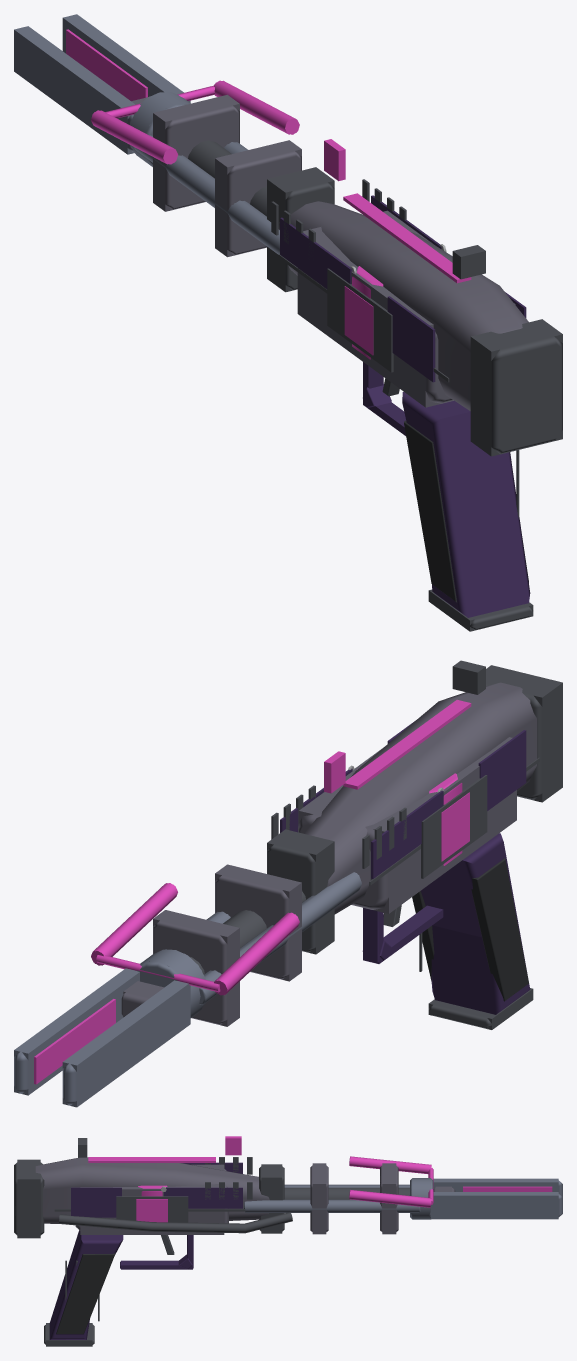
Rendered from q_ensmg.glb.
3 views of the same model, one above another, from view 1: azimuth 30°, elevation 25°; view 2: azimuth 150°, elevation 25°; view 3: azimuth 270°, elevation 25° (orthographic). The views are drawn at different scales.
Parts seen in each view (by area): view 1: L0, L1; view 2: L0, L1; view 3: L0, L1.
Part boxes in pixels (x1,y1,x2,y2): L0: (14,16,562,630); L1: (14,14,562,631); L0: (14,660,562,1105); L1: (14,665,562,1107); L0: (14,1136,562,1344); L1: (17,1156,558,1346).
Bounding box in the file's own units: 0.0764 × 0.1905 × 0.4726.
